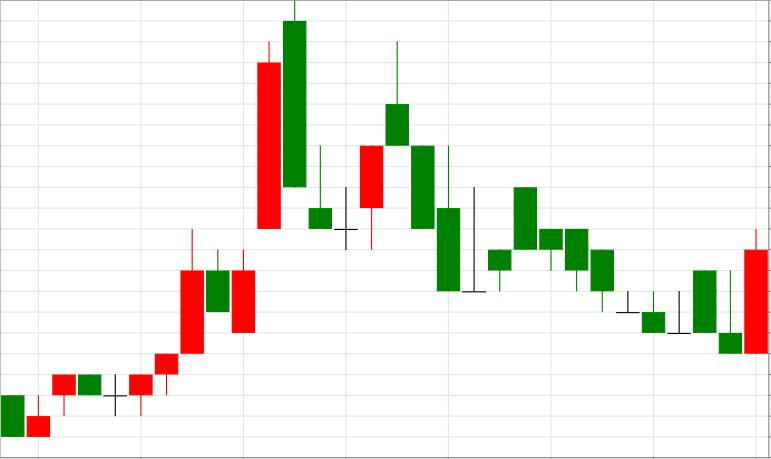bullish_engulfing_rise: (514, 186, 768, 353)
